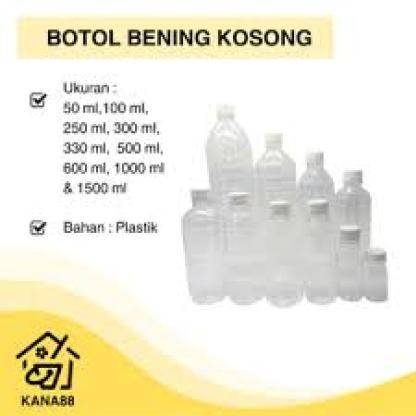Glass Bottle: (204, 102, 257, 218), (180, 186, 225, 304), (220, 191, 265, 307), (260, 198, 305, 308), (256, 126, 296, 224), (332, 167, 373, 260), (304, 198, 338, 305), (297, 146, 336, 230), (338, 223, 363, 303), (364, 245, 388, 302)
